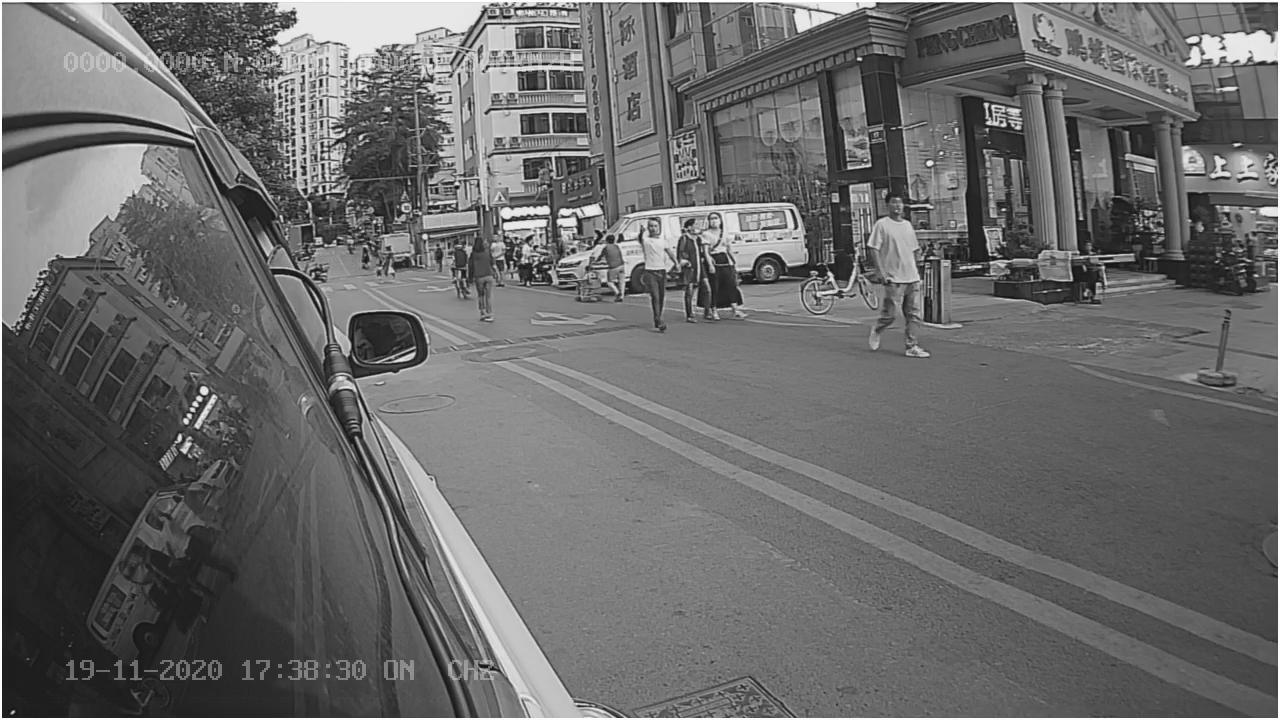person: (869, 196, 943, 365)
